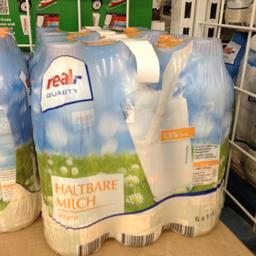milk: (28, 40, 110, 255), (110, 41, 170, 241), (172, 36, 230, 236)
